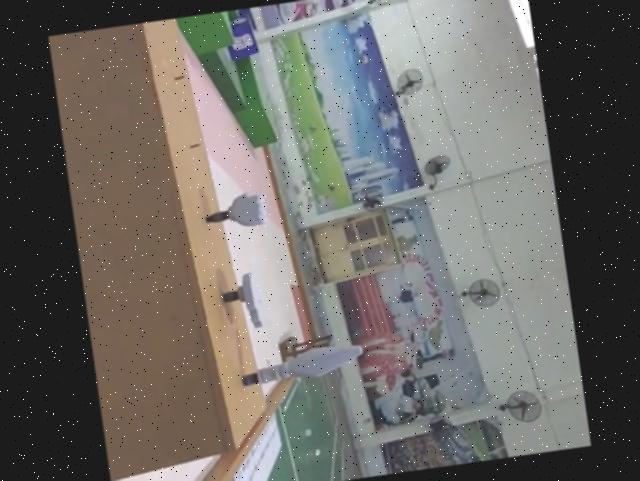Fist: (200, 183, 271, 234)
Hand: (218, 266, 269, 332)
Sph: (238, 341, 371, 392)
